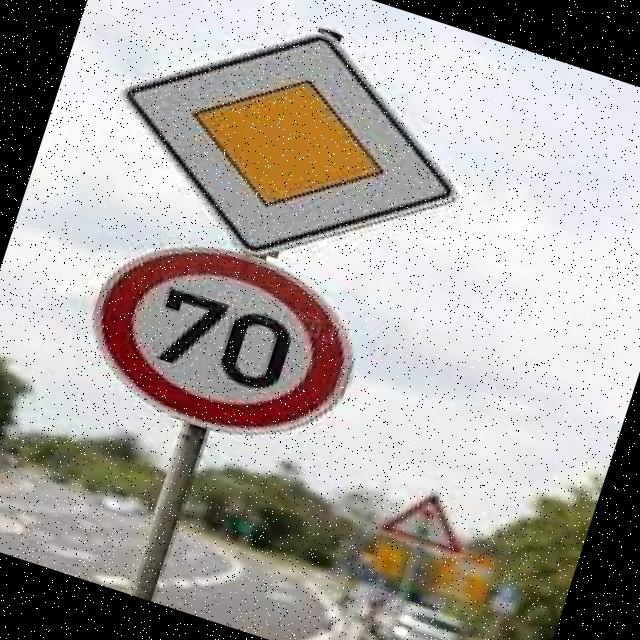speed_limit_70: (64, 212, 381, 478)
